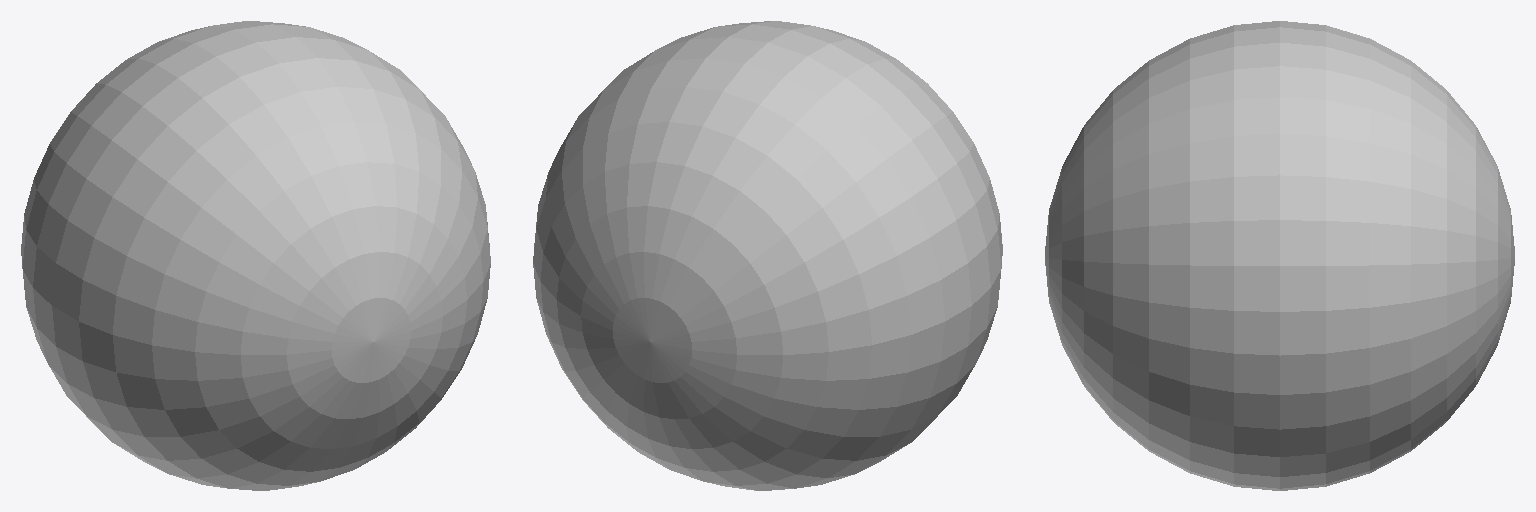
Rendered from moon.obj.
3 views of the same model, side by side, from view 1: azimuth 30°, elevation 25°; view 2: azimuth 150°, elevation 25°; view 3: azimuth 270°, elevation 25° (orthographic).
Visible parts, largest first — view 1: Moon; view 2: Moon; view 3: Moon.
Part boxes in pixels (x1,y1,x2,y2): Moon: (21,21,490,490); Moon: (533,21,1002,490); Moon: (1045,21,1514,490).
Size of the model in its own units: 2 by 2 by 2.